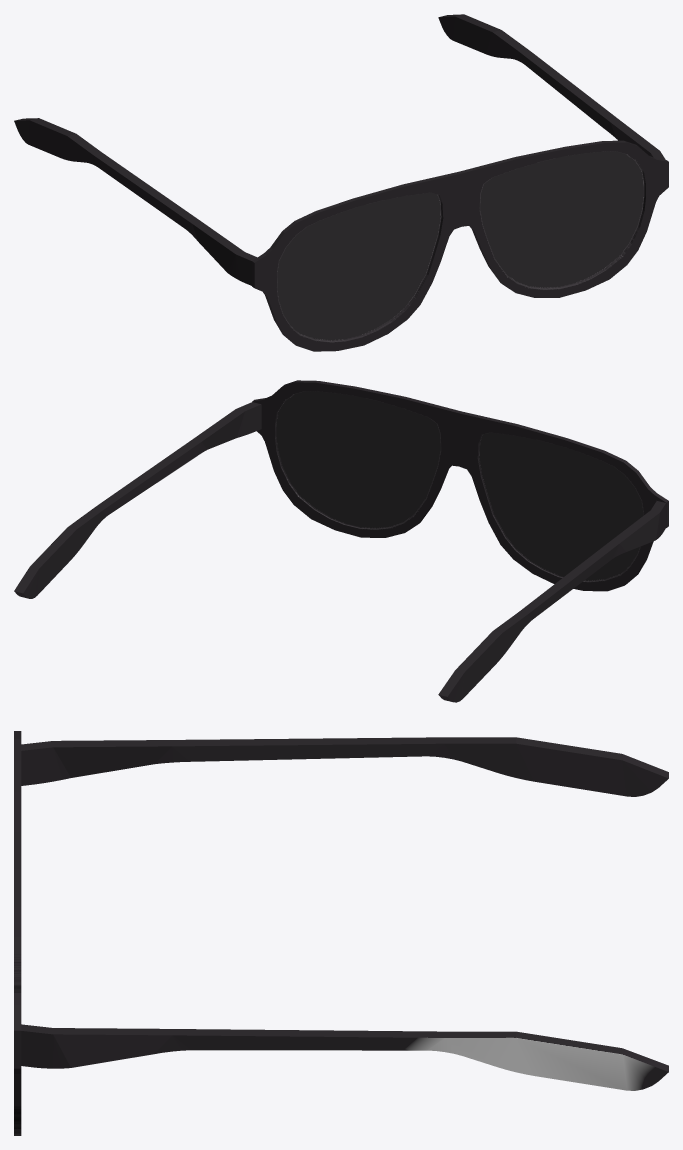
The model's file is Yash_Glasses.fbx.
The picture shows the model from 3 angles, top to bottom: view 1: azimuth 30°, elevation 25°; view 2: azimuth 150°, elevation 25°; view 3: azimuth 270°, elevation 25°; orthographic projection. The views are drawn at different scales.
Parts seen in each view (by area): view 1: Glasses; view 2: Glasses; view 3: Glasses.
Boxes of the visible parts, box(x1,y1,x2,y2) form: Glasses: box(14, 14, 668, 351); Glasses: box(14, 380, 668, 702); Glasses: box(14, 731, 668, 1135).
Size of the model in its own units: 15.22 by 4.99 by 14.01.
Materials: 1 (1 with a texture image).
